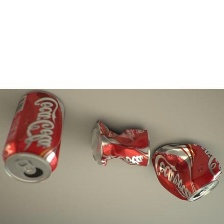can: (0, 85, 68, 185), (149, 133, 224, 208), (80, 118, 153, 169)
